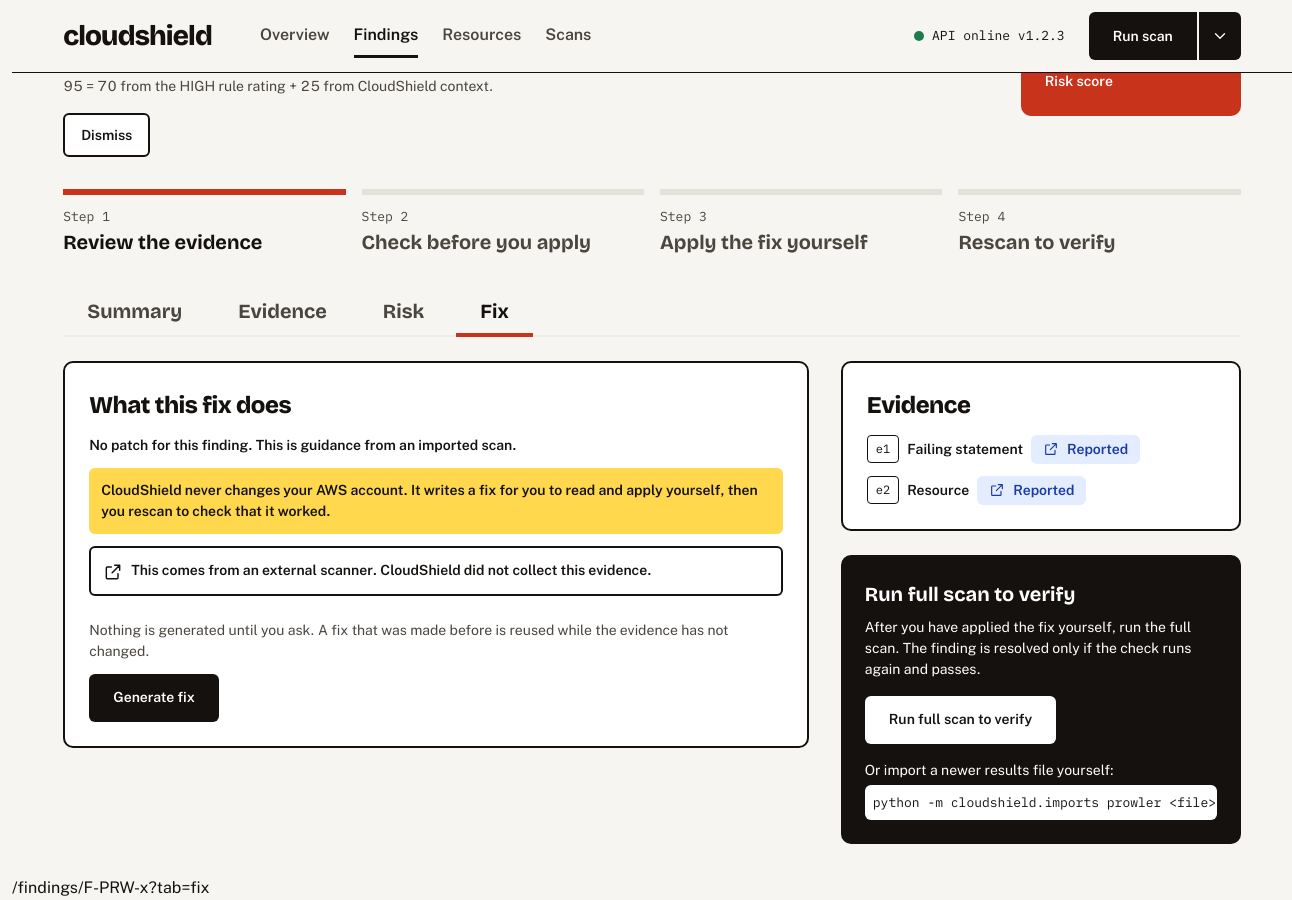
Scenario: Finding page: an imported finding › shows the guidance and links, and how to check with a full scan
(page scrolled)
Click the button "Generate fix".
click(154, 698)  # box [89, 674, 219, 722]
(page scrolled)
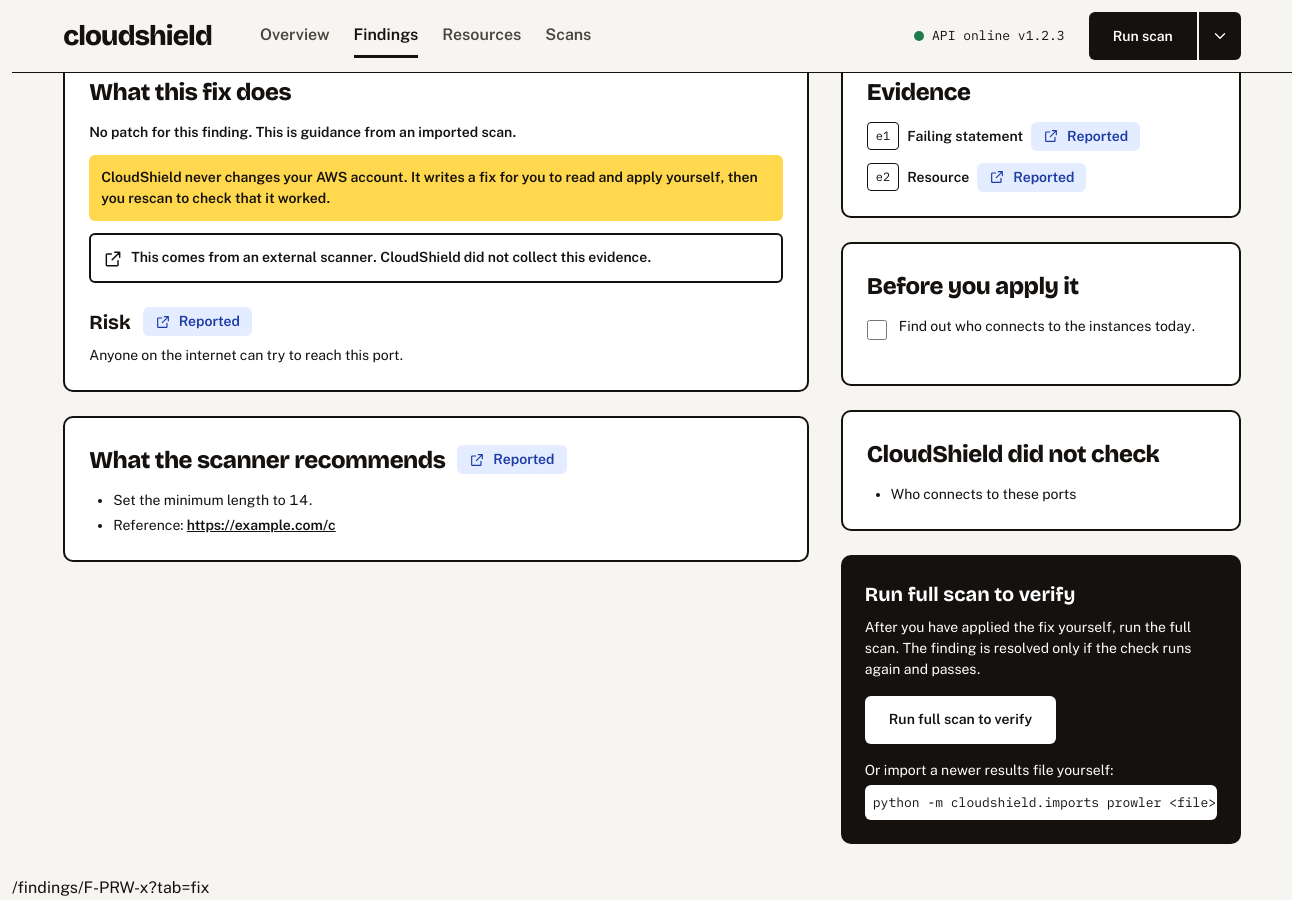
Expected: the text "python -m cloudshield.imports prowler <file>" is shown, [865, 784, 1217, 820]
Result: the text "Set the minimum length to 14." is shown at [113, 492, 313, 508]
Result: the link "https://example.com/c" is shown at [187, 516, 336, 532]
